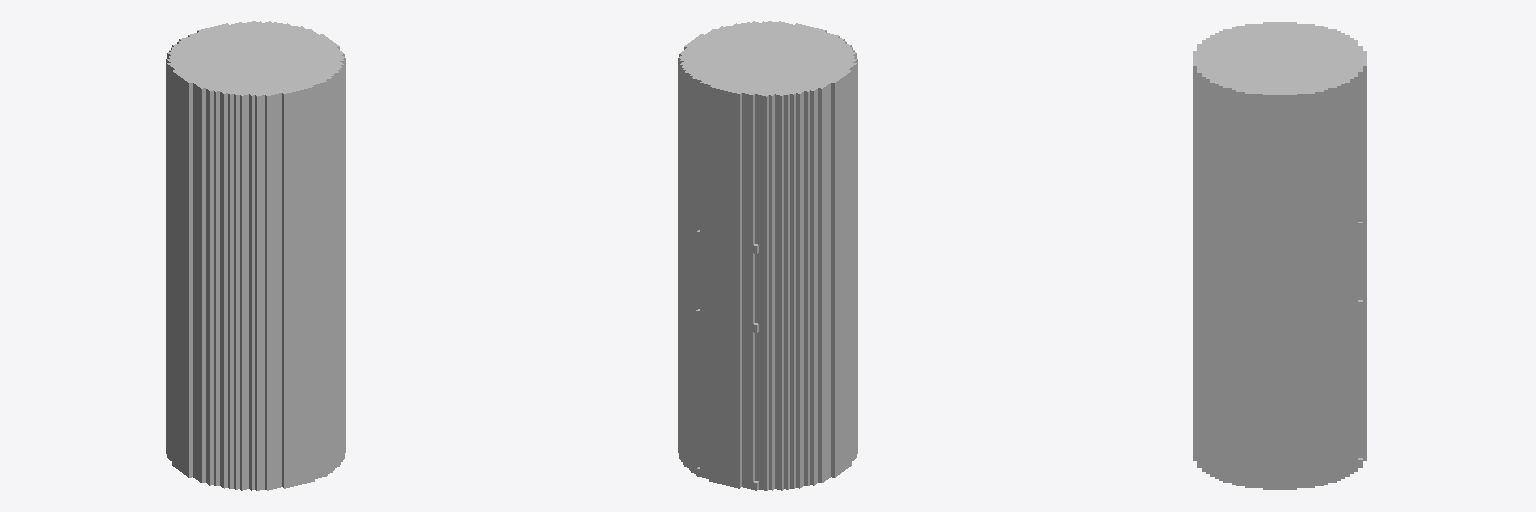
Rendered from pillar.obj.
The picture shows the model from 3 angles: view 1: azimuth 30°, elevation 25°; view 2: azimuth 150°, elevation 25°; view 3: azimuth 270°, elevation 25°; orthographic projection.
Visible parts, largest first — view 1: object 1; view 2: object 1; view 3: object 1.
Part boxes in pixels (x1,y1,x2,y2): object 1: (166, 21, 345, 490); object 1: (678, 21, 857, 490); object 1: (1193, 22, 1366, 489).
Bounding box in the file's own units: 4 × 10 × 4.